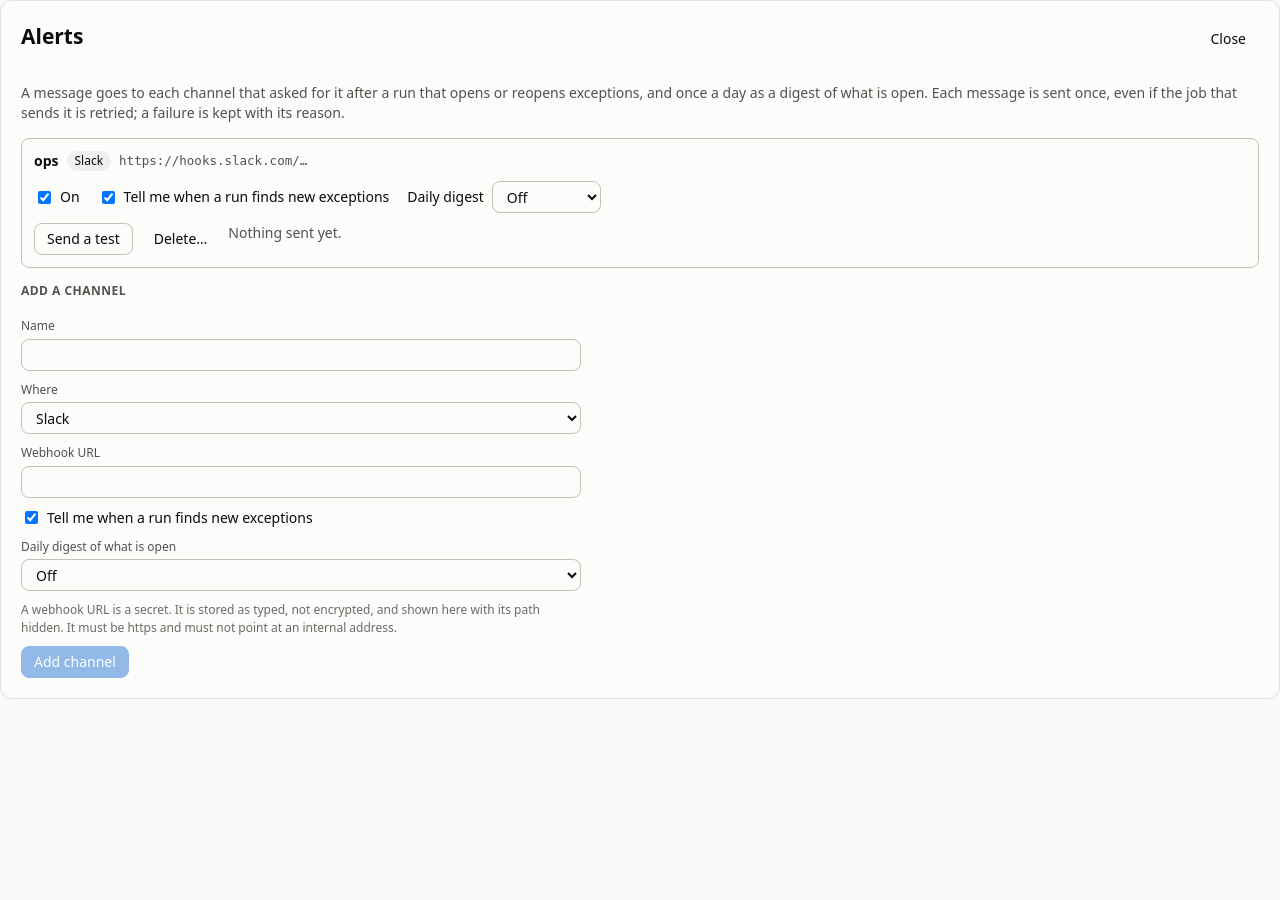
it: Alerts › sends a test and shows how it went
Step 1. Click the button "Send a test" → (83, 239), box [34,223,133,255]
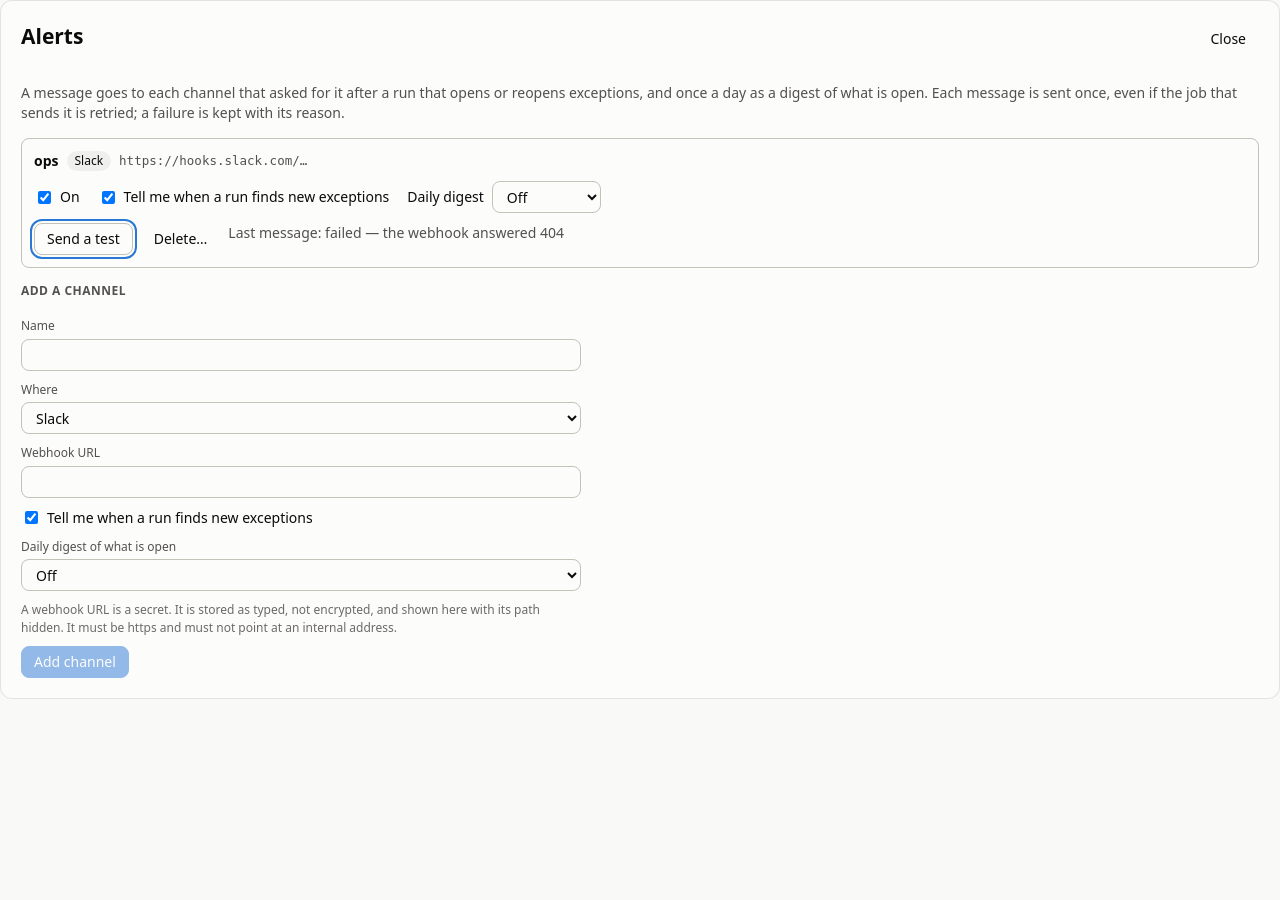
Check: the text "Last message: failed — the webhook answered 404" is shown, box [228,223,564,242]
